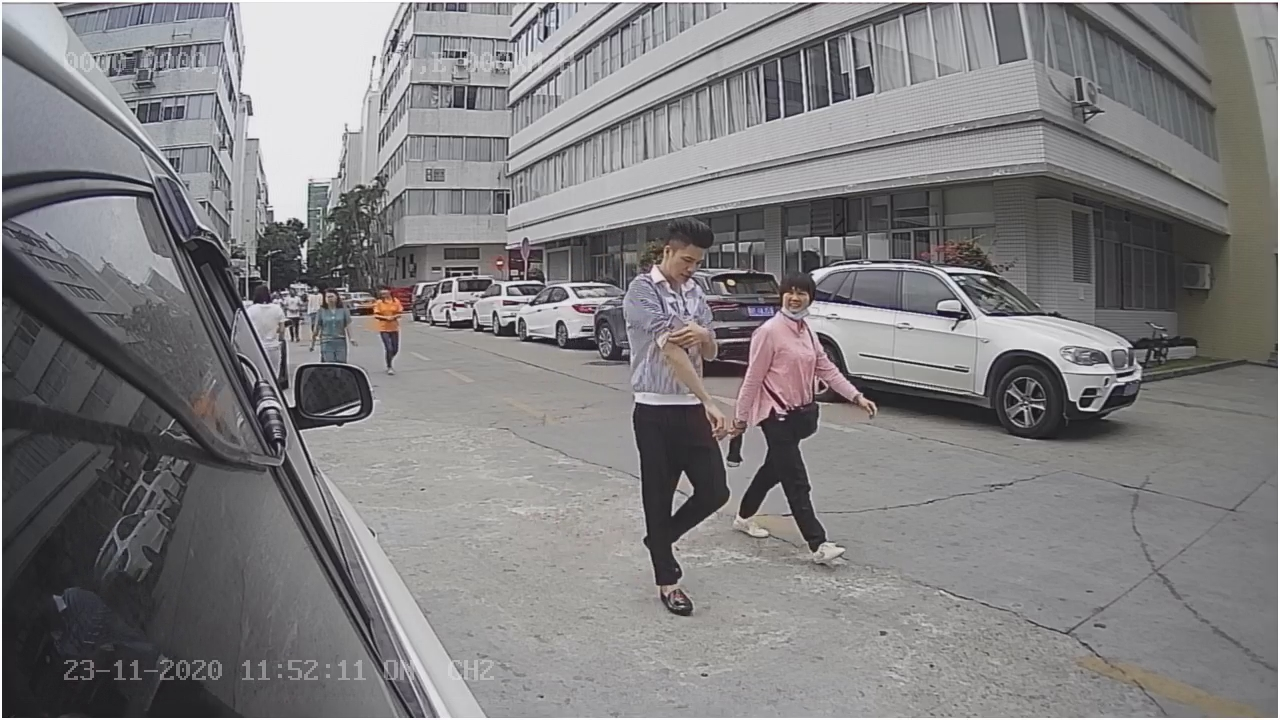person: (617, 215, 725, 612)
